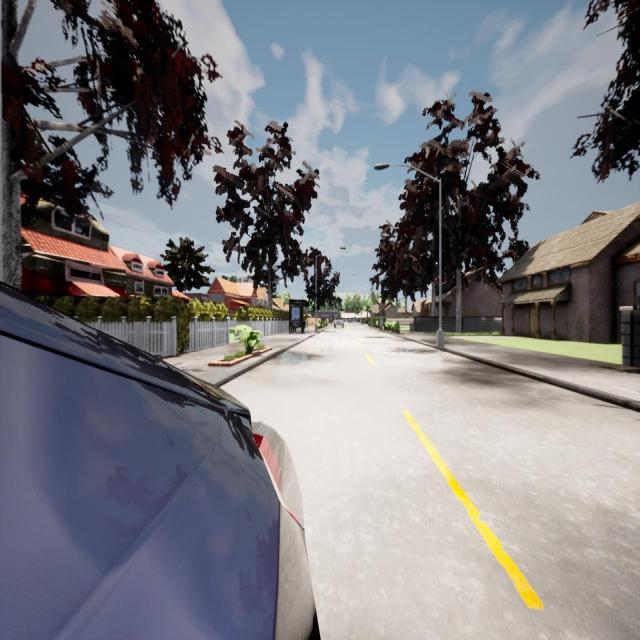Vehicle: (0, 282, 316, 638), (334, 316, 344, 329)
